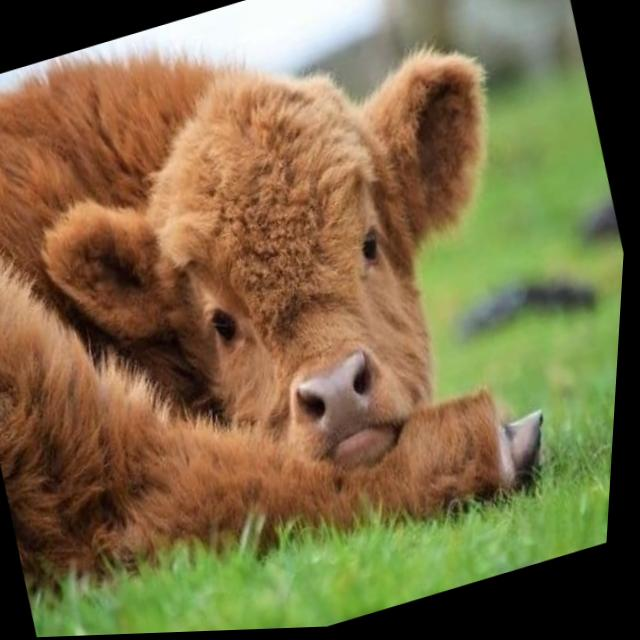cowFace: (3, 4, 579, 559)
